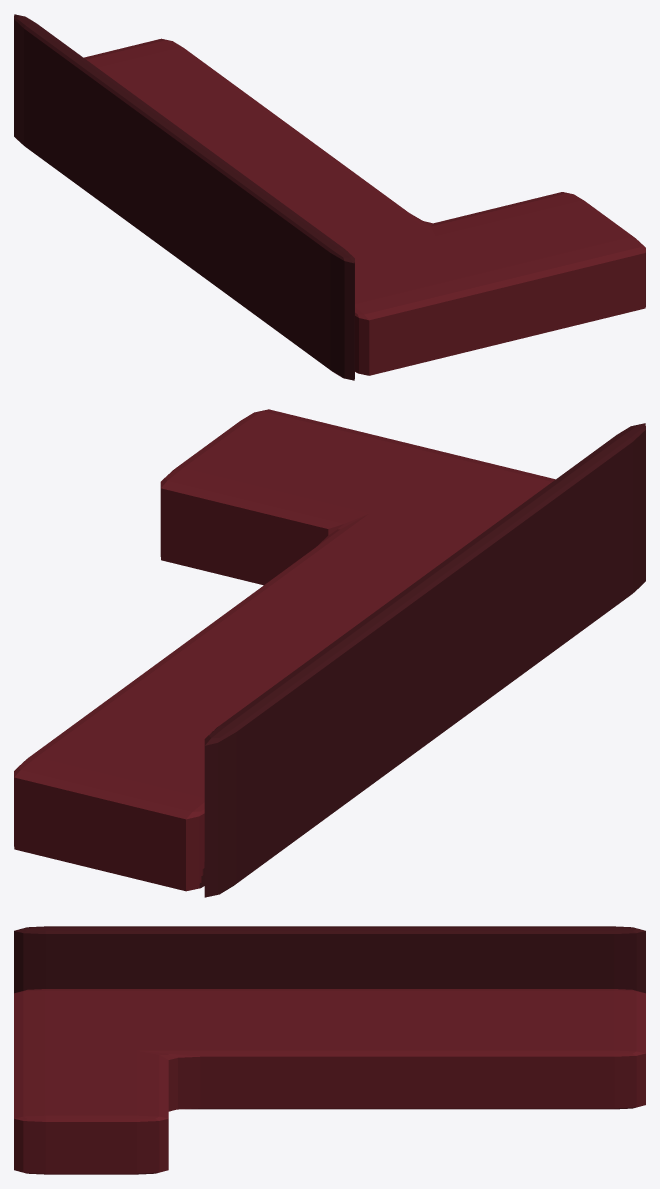
The model's file is Divano.fbx.
3 views of the same model, one above another, from view 1: azimuth 30°, elevation 25°; view 2: azimuth 150°, elevation 25°; view 3: azimuth 270°, elevation 25° (orthographic). The views are drawn at different scales.
Visible parts, largest first — view 1: Divano; view 2: Divano; view 3: Divano.
Boxes of the visible parts, x1,y1,x2,y2 form: Divano: (14, 14, 645, 380); Divano: (14, 409, 645, 897); Divano: (14, 926, 645, 1174).
Bounding box in the file's own units: 240 × 92.51 × 463.
